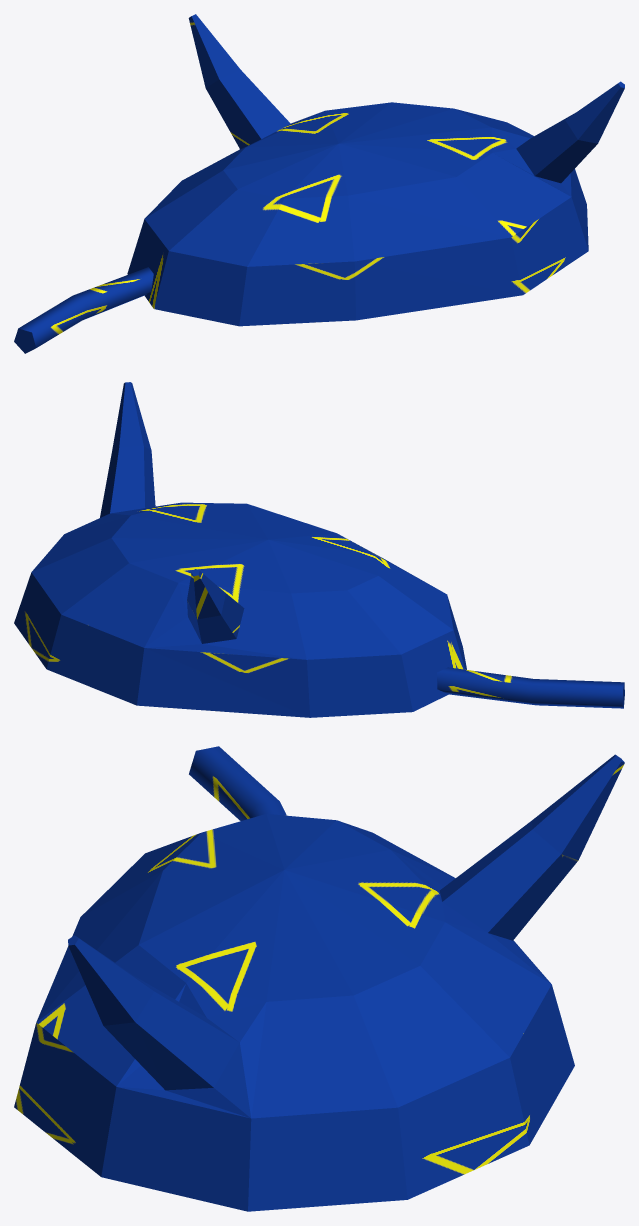
The model's file is Crab Shell (Horseshoe crab) ALIEN.fbx.
The picture shows the model from 3 angles, top to bottom: view 1: azimuth 30°, elevation 25°; view 2: azimuth 150°, elevation 25°; view 3: azimuth 270°, elevation 25°; orthographic projection. The views are drawn at different scales.
Visible parts, largest first — view 1: Alien HorseShoe CrabShell; view 2: Alien HorseShoe CrabShell; view 3: Alien HorseShoe CrabShell.
Part boxes in pixels (x1=…): Alien HorseShoe CrabShell: x1=14, y1=14, x2=624, y2=353; Alien HorseShoe CrabShell: x1=14, y1=382, x2=624, y2=717; Alien HorseShoe CrabShell: x1=14, y1=746, x2=624, y2=1211.
Bounding box in the file's own units: 40.24 × 11.23 × 24.15.
